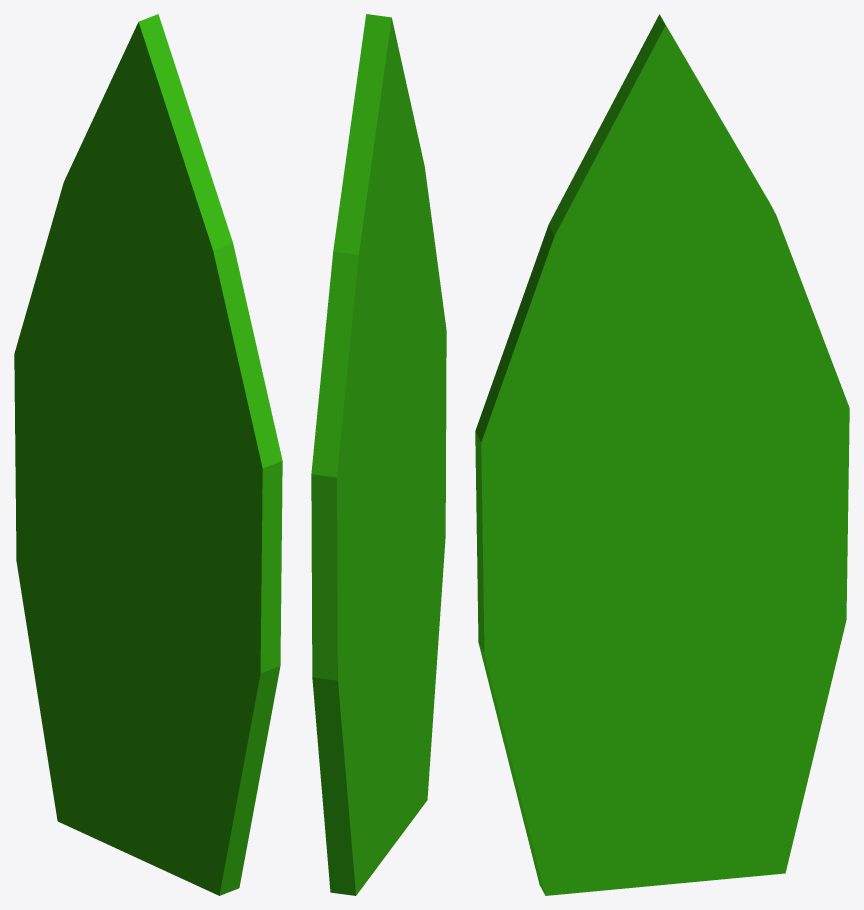
The model's file is Rigged Grass Export 105.fbx.
The picture shows the model from 3 angles, left to right: view 1: azimuth 30°, elevation 25°; view 2: azimuth 150°, elevation 25°; view 3: azimuth 270°, elevation 25°; orthographic projection. The views are drawn at different scales.
Parts seen in each view (by area): view 1: Grass 4 Right Right 7; view 2: Grass 4 Right Right 7; view 3: Grass 4 Right Right 7.
Part boxes in pixels (bbox=[...]): Grass 4 Right Right 7: bbox=[14, 14, 282, 895]; Grass 4 Right Right 7: bbox=[311, 14, 446, 895]; Grass 4 Right Right 7: bbox=[475, 14, 849, 895].
Size of the model in its own units: 38.05 by 331 by 131.
